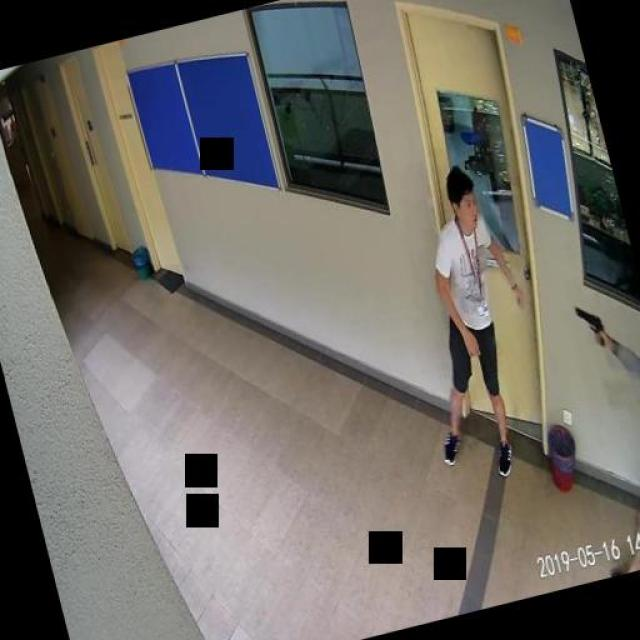gun: (573, 300, 605, 349)
